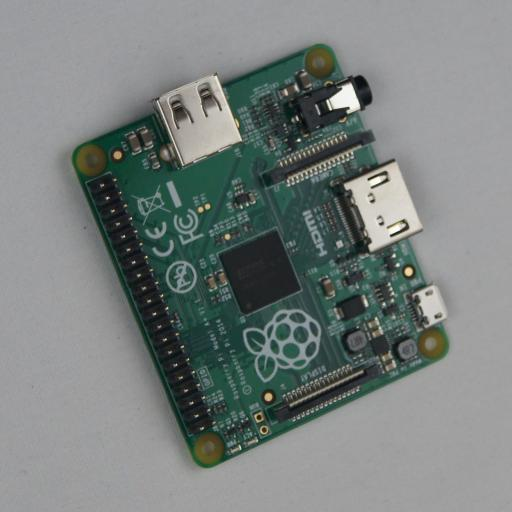Raspberry Pi A-: (71, 44, 449, 468)
